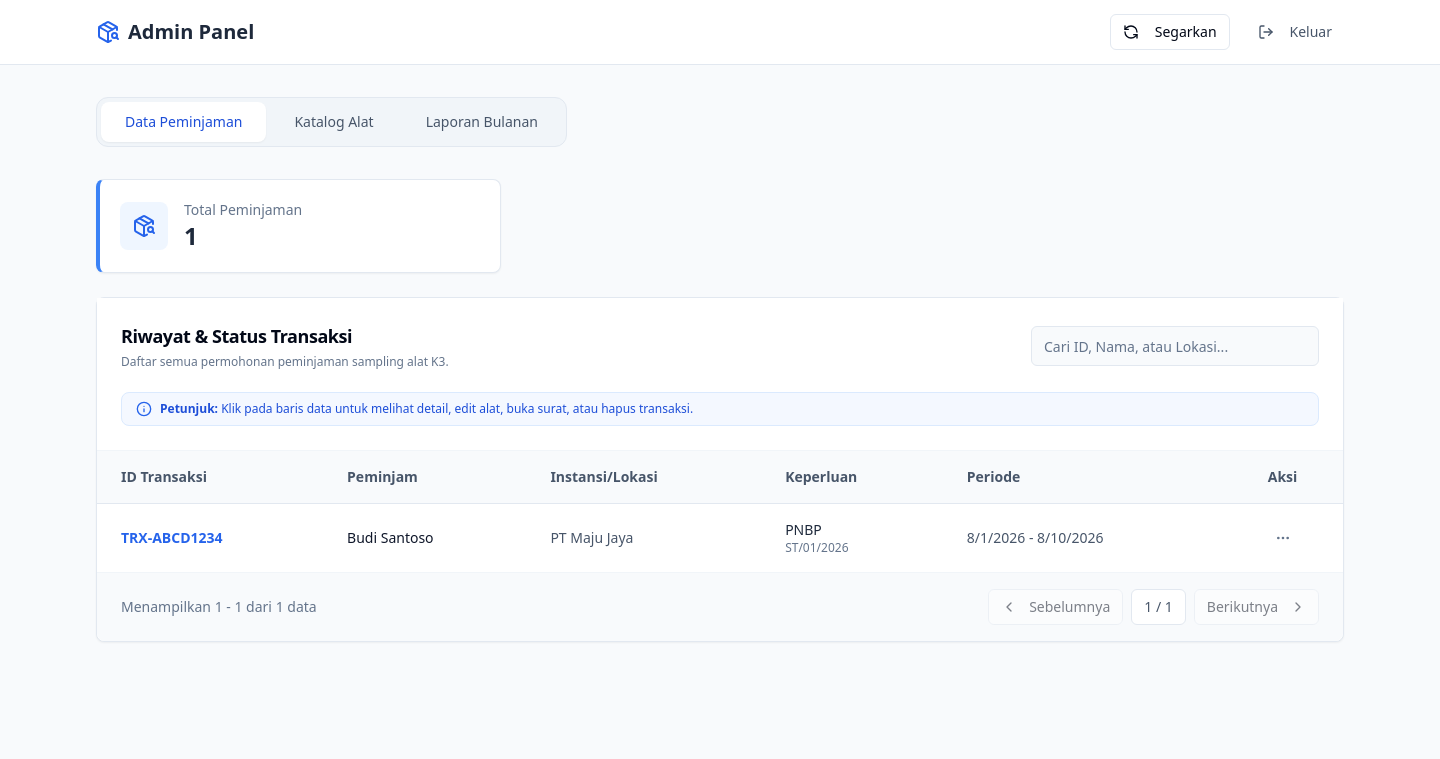
it: AdminDashboard — Tab Transaksi & Fitur Aksi (Row-Click & ActionPanel) › harus membuka ActionPanel dan modal Edit Alat saat baris katalog diklik
# Pindah ke tab katalog
Click the button "Katalog Alat".
click(334, 122)  # box top-left (270, 102), bottom-right (398, 142)
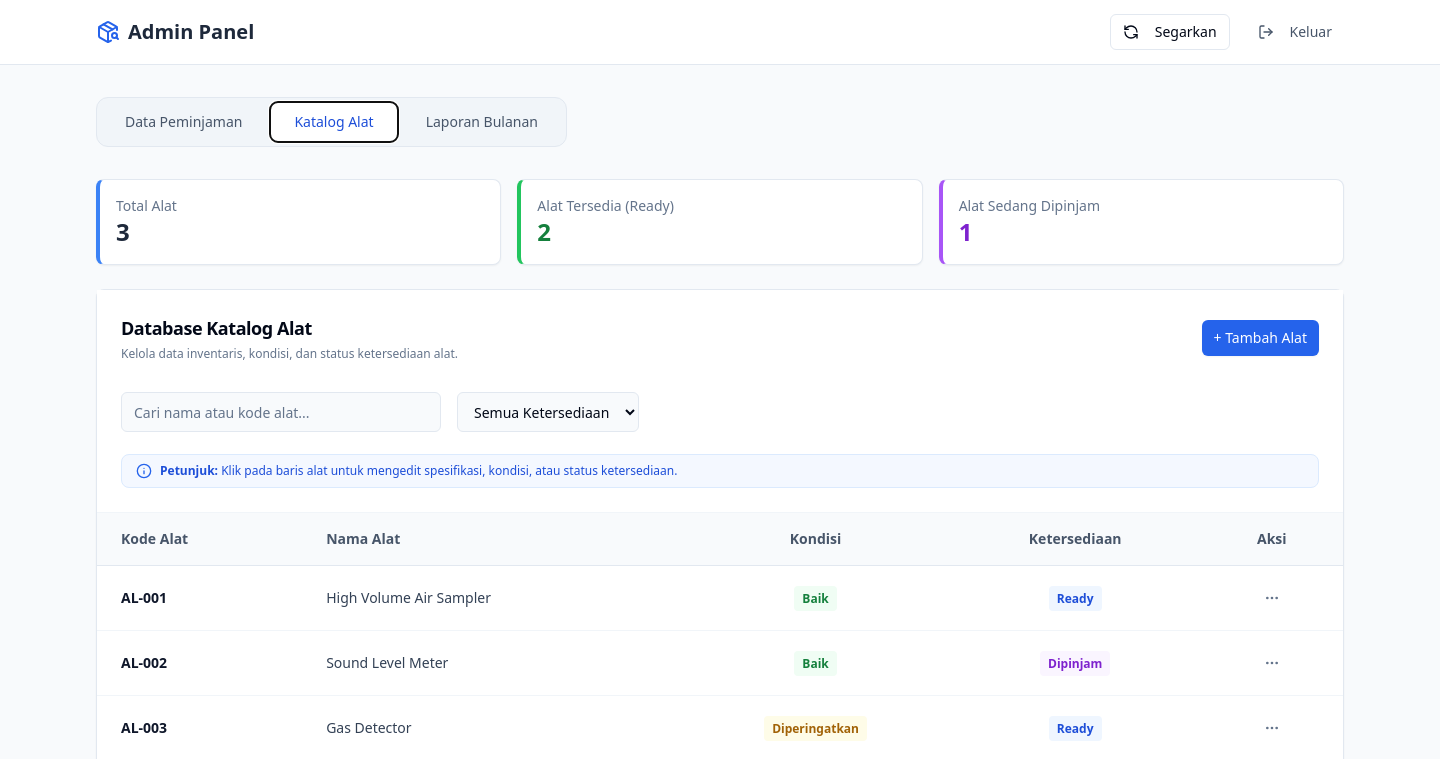
Expected: the text "High Volume Air Sampler" is shown
# Klik baris alat
Click the text "High Volume Air Sampler".
click(492, 598)  # box top-left (302, 566), bottom-right (681, 630)
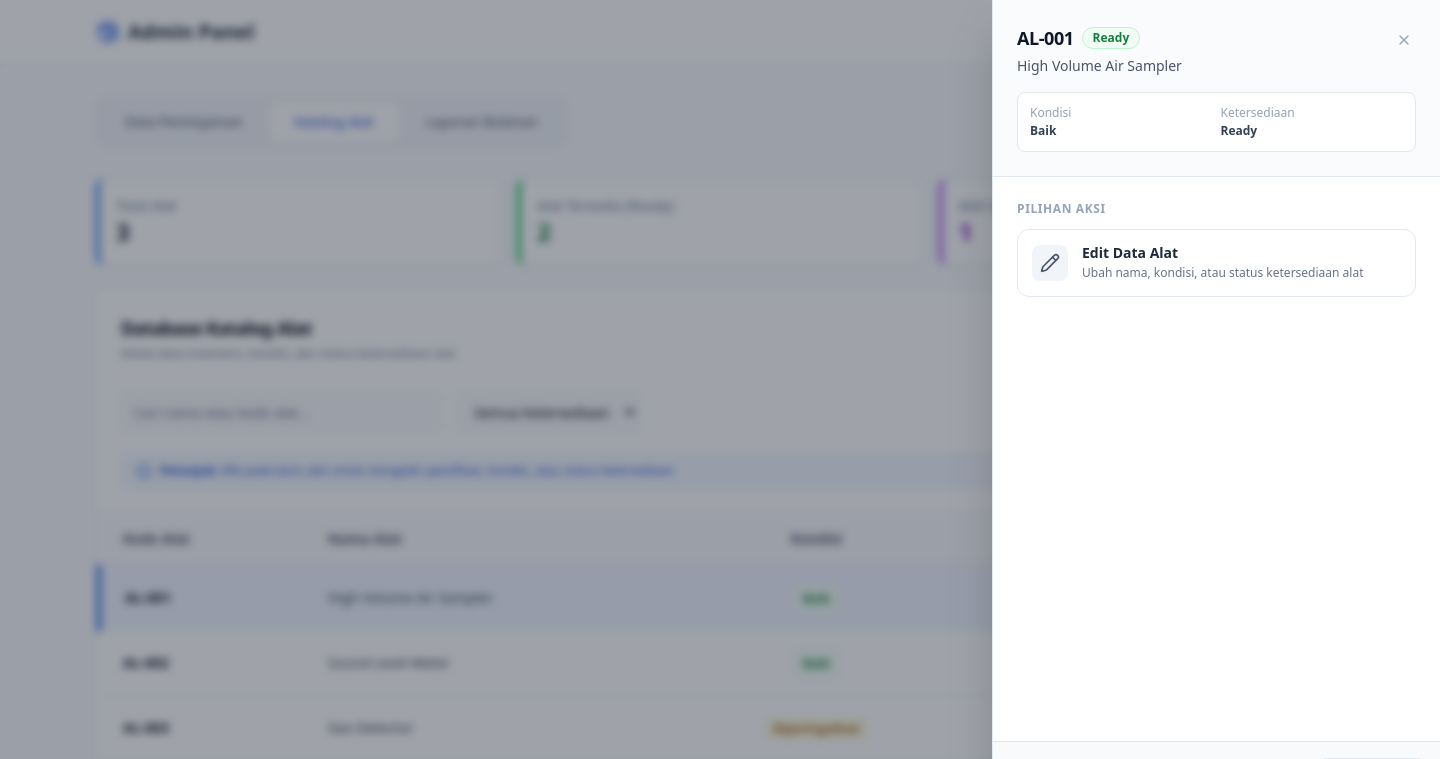
Expected: the button "Edit Data Alat" is shown
Click the button "Edit Data Alat".
click(1216, 263)  # box top-left (1017, 229), bottom-right (1416, 296)
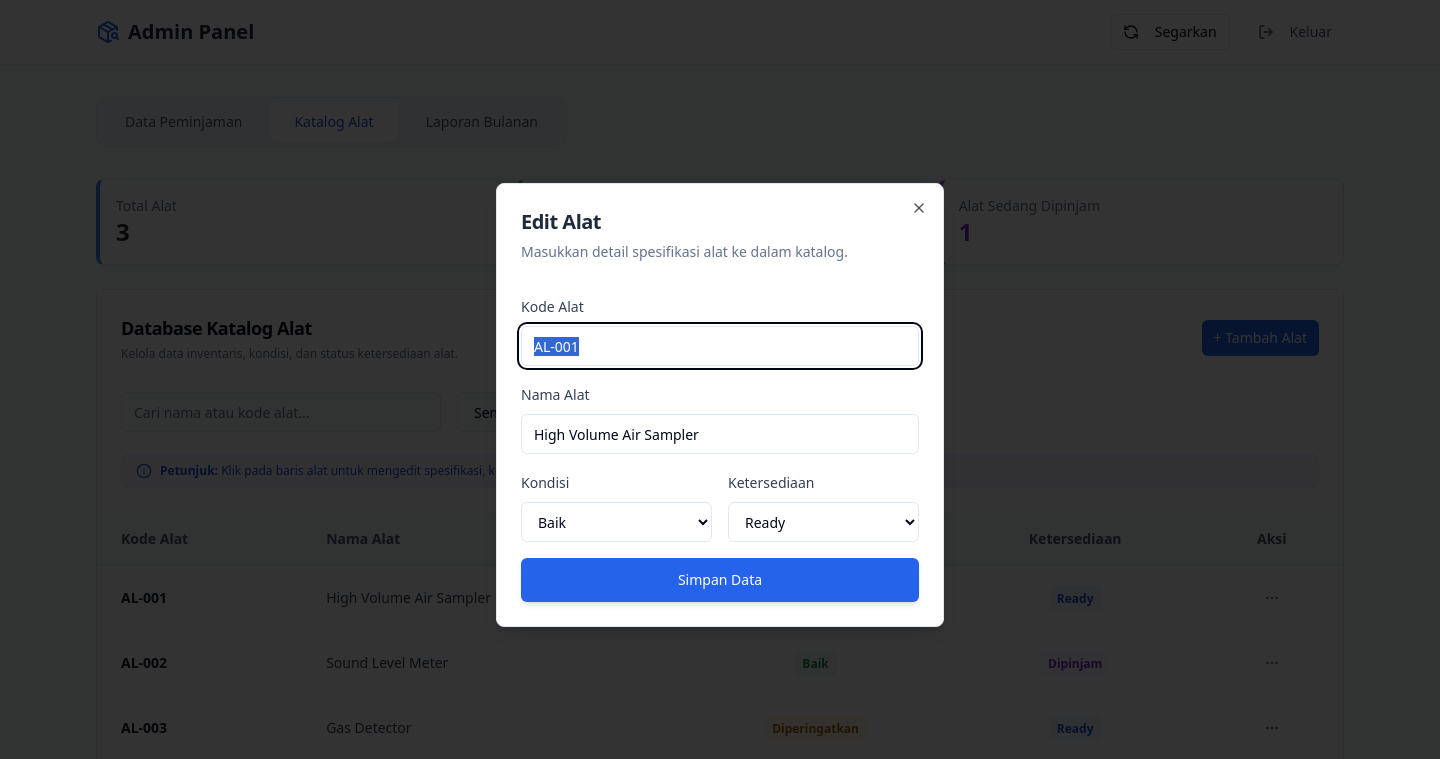
Expected: the heading "Edit Alat" is shown, top-left (521, 208), bottom-right (601, 235)
